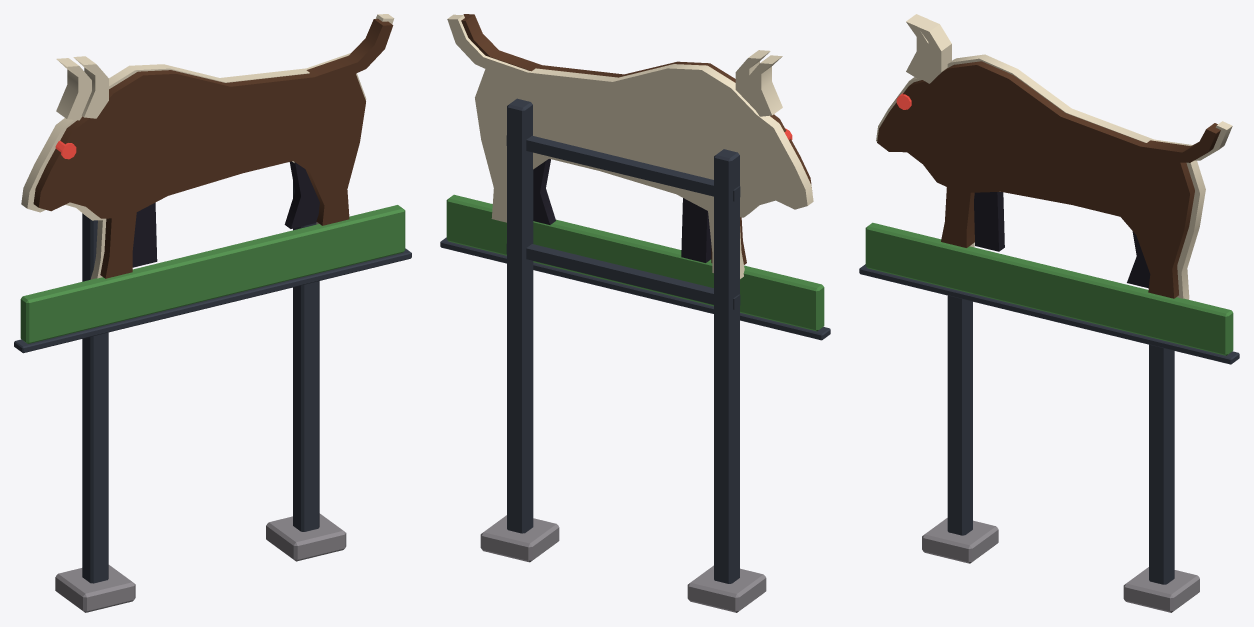
Rendered from bull_sign.glb.
3 views of the same model, side by side, from view 1: azimuth 30°, elevation 25°; view 2: azimuth 150°, elevation 25°; view 3: azimuth 330°, elevation 25° (orthographic). The views are drawn at different scales.
Parts seen in each view (by area): view 1: bull_sign; view 2: bull_sign; view 3: bull_sign.
Boxes of the visible parts, left/top/right/bottom form: bull_sign: left=14, top=14, right=411, bottom=612; bull_sign: left=440, top=14, right=830, bottom=612; bull_sign: left=859, top=14, right=1239, bottom=612.
Size of the model in its own units: 7.4 by 10 by 1.05.
Materials: 2 (2 with a texture image).
